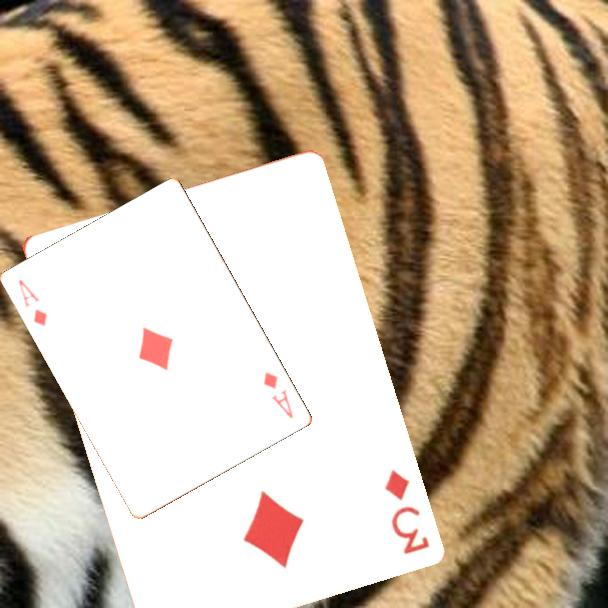d01: (260, 368, 297, 422), (15, 276, 51, 329)
d03: (380, 466, 432, 557)
